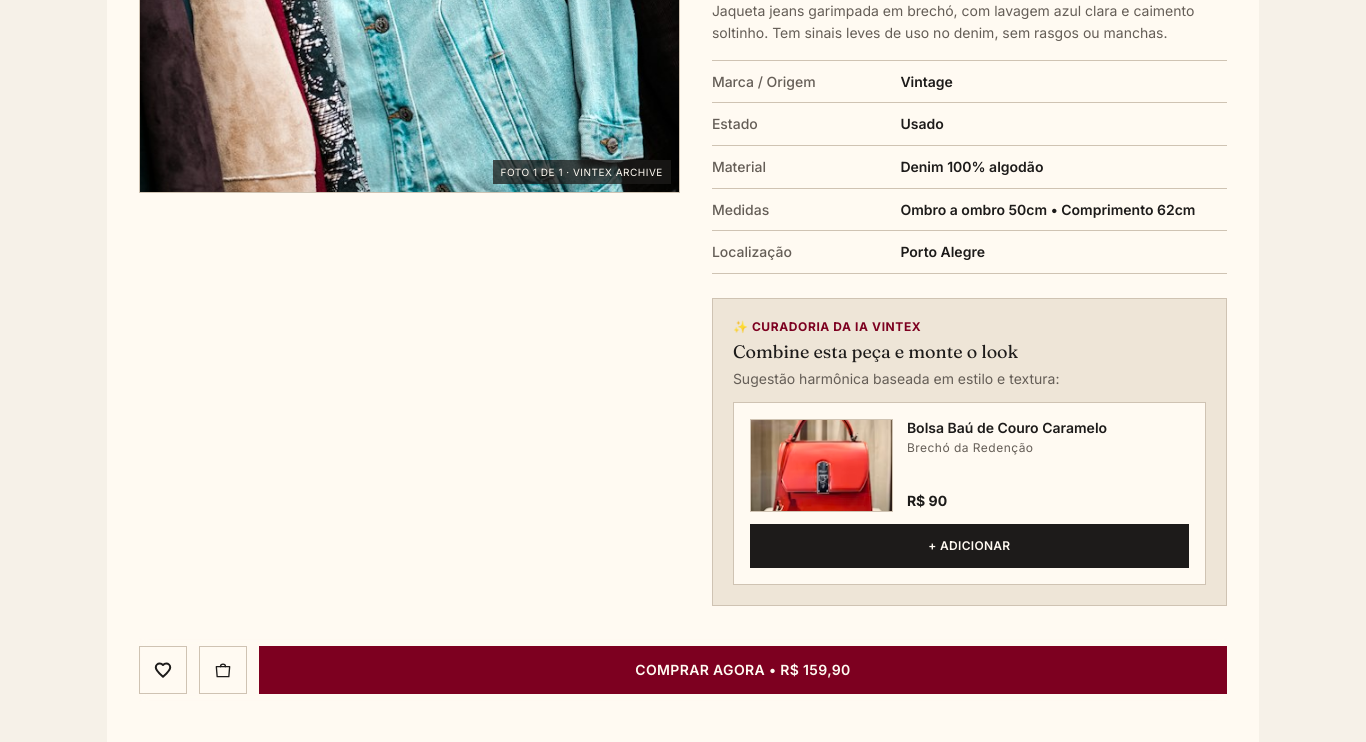
Scenario: <ProductDetail /> › barreira de login (FE-US012-5, #88) › na barreira, "Entrar" navega para /login guardando a origem
(page scrolled)
Click the button named "Adicionar aos favoritos": point(163, 670) [141,648,185,692]
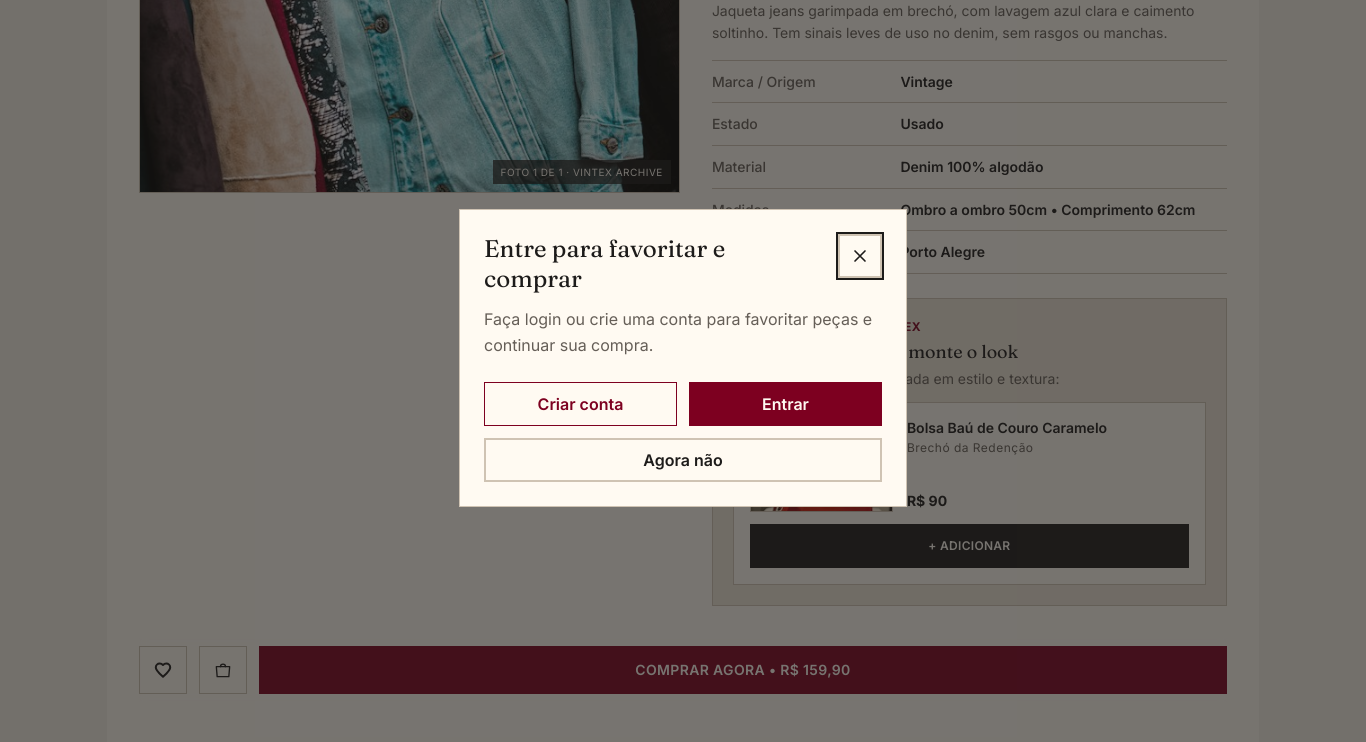
Result: the dialog is shown at [459,209,907,507]
Click the button "Entrar": point(786, 404) [689,382,882,426]
(page scrolled)
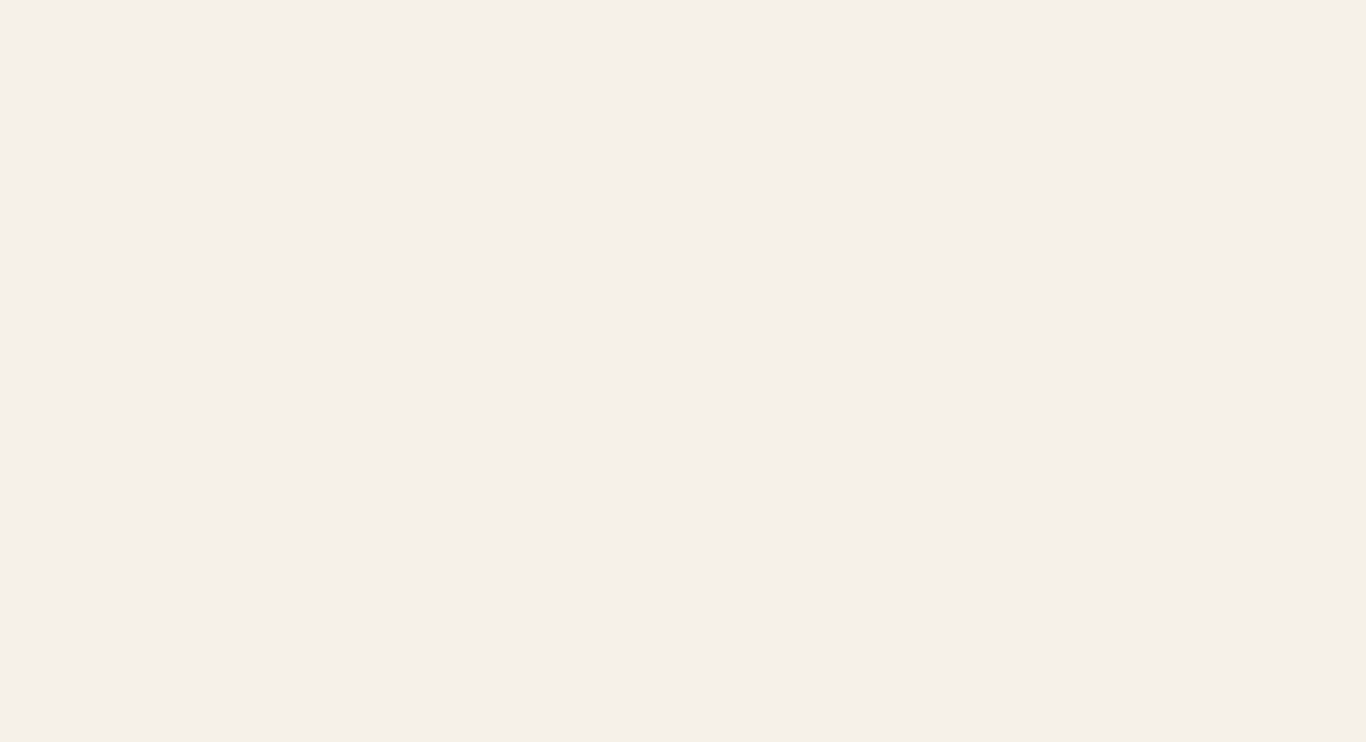
Result: the dialog is gone
